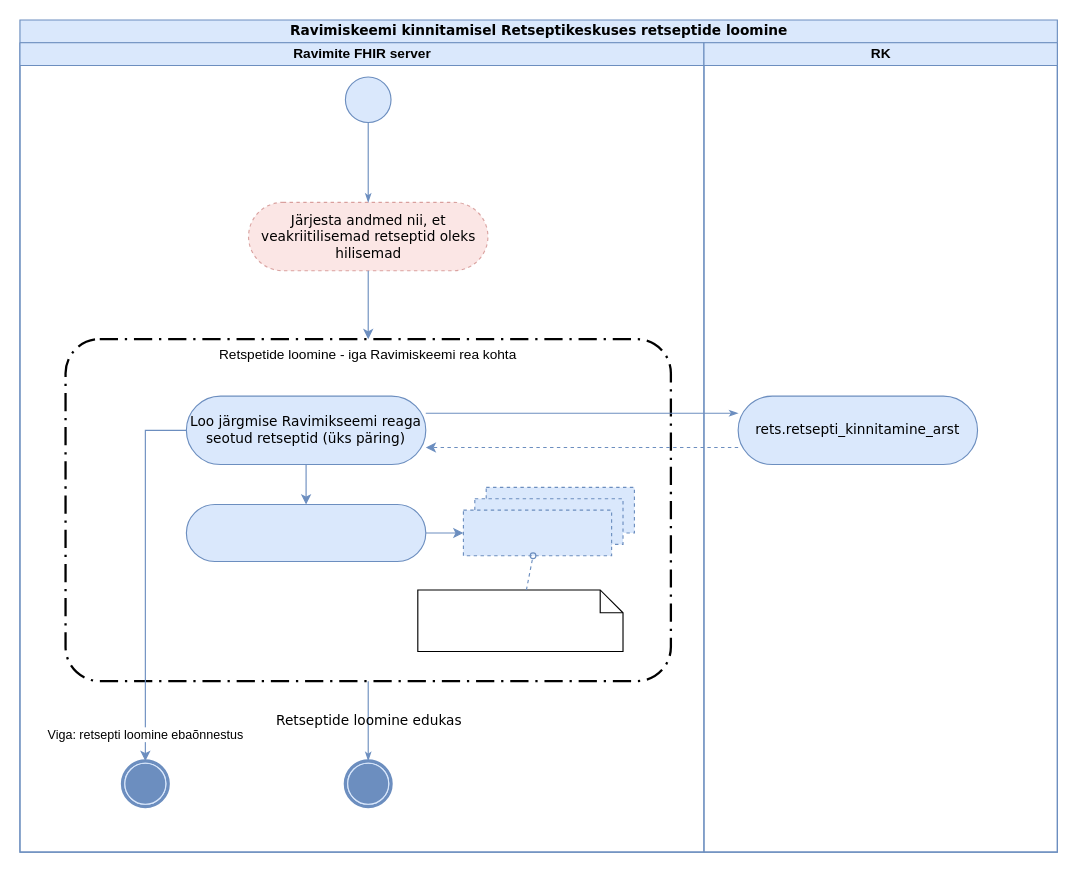
The diagram is 1077 pixels wide and 872 high, and some of its shapes have lost their labels. The shapes that lost their labels are listed below. From the top down, each one's centre as x and y in pixels, then its label:
At point 305,532: "Salvesta retseptide numbrid MedicationRequest viidetena".
At point 537,532: "MedicationRequest".
At point 520,620: "MedicationRequest reference'd, mitte täis-ressursid".
